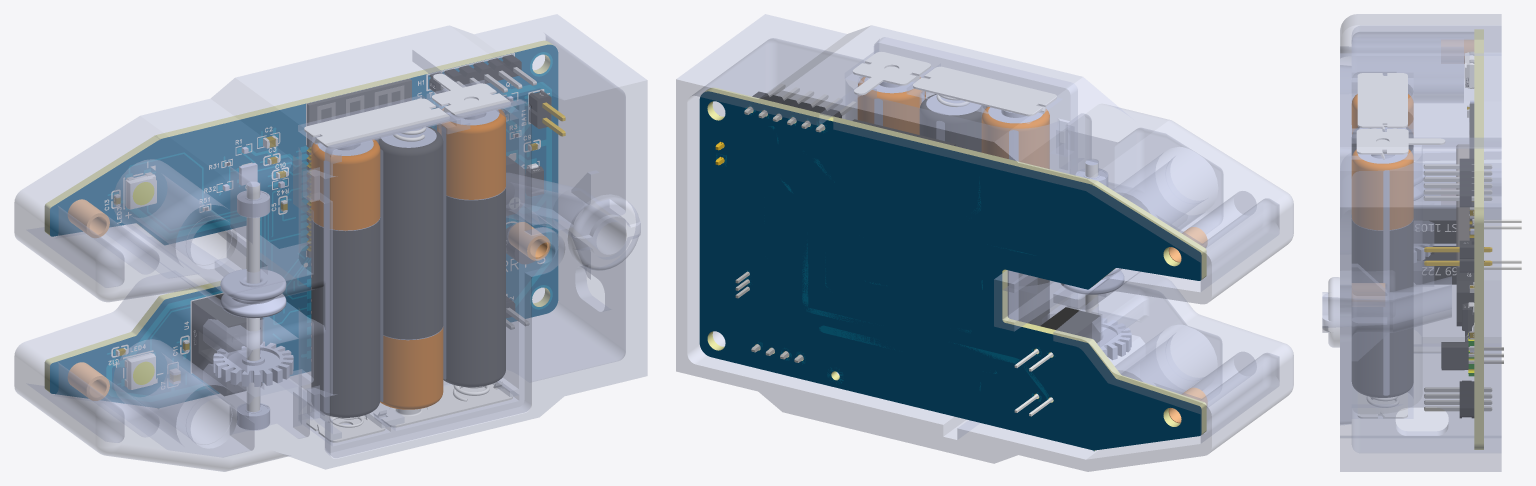
The model's file is Aalarm_assembly.glb.
3 renders of one model, left to right at view 1: azimuth 30°, elevation 25°; view 2: azimuth 150°, elevation 25°; view 3: azimuth 270°, elevation 25°, orthographic. The views are drawn at different scales.
Visible parts, largest first — view 1: Afront case-1, battery lid-1, Board~5Tis.step-1, AAAA battery-3, AAAA battery-2, AAAA battery-1, TopCopper~5Tis.step-1, AAA terminal, AB-1, U4~OPTO-TH_TCST1103~OPTO-TH_TCST1103~5Tis.step-1/OPTO-TH_TCS, U1~WIFI-SMD_ESP32-WROOM-32E~WIFI-SMD_L25.5-W18.0-H3.1-ESP32-, Awheel-1, encoder wheel slotted-1 (+13 smaller); view 2: Board~5Tis.step-1, Afront case-1, AAAA battery-3, battery lid-1, AAA terminal, AB-1, AAAA battery-2, AAAA battery-1, BottomCopper~5Tis.step-1, AAA terminal, single AB-1, U4~OPTO-TH_TCST1103~OPTO-TH_TCST1103~5Tis.step-1/OPTO-TH_TCS, H1~HDR-TH_6P-P2.54-V-M~HDR-TH_6P-P2.54-M-LI-1X6P~5Tis.step-1, encoder wheel slotted-1 (+1 smaller); view 3: Afront case-1, AAAA battery-1, Board~5Tis.step-1, battery lid-1, U4~OPTO-TH_TCST1103~OPTO-TH_TCST1103~5Tis.step-1/OPTO-TH_TCS, AAA terminal, AB-1, H1~HDR-TH_6P-P2.54-V-M~HDR-TH_6P-P2.54-M-LI-1X6P~5Tis.step-1, AAA terminal, single AB-1, H2~HDR-TH_4P-P2.54-V-M~HDR-TH_4P-P2.54-M-LI-1X4P~5Tis.step-1, U1~WIFI-SMD_ESP32-WROOM-32E~WIFI-SMD_L25.5-W18.0-H3.1-ESP32-, U2~TO-92-3_L5.1-W4.1-P1.27-L~TO-92-3_L4.9-W3.7-P1.27-L~5Tis., AAA terminal, AB-2 (+9 smaller).
Boxes of the visible parts, box(x1,y1,x2,y2) form: Afront case-1: box(14, 14, 647, 471); battery lid-1: box(307, 100, 564, 457); Board~5Tis.step-1: box(44, 40, 558, 408); AAAA battery-3: box(311, 139, 380, 417); AAAA battery-2: box(376, 126, 443, 409); AAAA battery-1: box(437, 108, 505, 387); TopCopper~5Tis.step-1: box(106, 52, 552, 401); AAA terminal, AB-1: box(304, 98, 449, 147); U4~OPTO-TH_TCST1103~OPTO-TH_TCST1103~5Tis.step-1/OPTO-TH_TCS: box(175, 287, 262, 395); U1~WIFI-SMD_ESP32-WROOM-32E~WIFI-SMD_L25.5-W18.0-H3.1-ESP32-: box(306, 78, 411, 257); Awheel-1: box(220, 269, 286, 318); encoder wheel slotted-1: box(213, 342, 293, 386); Board~5Tis.step-1: box(699, 87, 1206, 451); Afront case-1: box(676, 14, 1293, 471); AAAA battery-3: box(981, 107, 1049, 325); battery lid-1: box(874, 37, 1077, 312); AAA terminal, AB-1: box(913, 66, 1056, 116); AAAA battery-2: box(920, 94, 987, 151); AAAA battery-1: box(858, 77, 925, 134); BottomCopper~5Tis.step-1: box(716, 104, 1055, 405); AAA terminal, single AB-1: box(852, 52, 930, 95); U4~OPTO-TH_TCST1103~OPTO-TH_TCST1103~5Tis.step-1/OPTO-TH_TCS: box(1014, 307, 1100, 416); H1~HDR-TH_6P-P2.54-V-M~HDR-TH_6P-P2.54-M-LI-1X6P~5Tis.step-1: box(744, 83, 857, 132); encoder wheel slotted-1: box(1097, 318, 1131, 359); Afront case-1: box(1322, 14, 1501, 471); AAAA battery-1: box(1351, 149, 1413, 397); Board~5Tis.step-1: box(1474, 29, 1483, 449); battery lid-1: box(1340, 66, 1353, 424); U4~OPTO-TH_TCST1103~OPTO-TH_TCST1103~5Tis.step-1/OPTO-TH_TCS: box(1414, 206, 1521, 284); AAA terminal, AB-1: box(1357, 73, 1407, 131); H1~HDR-TH_6P-P2.54-V-M~HDR-TH_6P-P2.54-M-LI-1X6P~5Tis.step-1: box(1423, 158, 1492, 207); AAA terminal, single AB-1: box(1356, 129, 1445, 159); H2~HDR-TH_4P-P2.54-V-M~HDR-TH_4P-P2.54-M-LI-1X4P~5Tis.step-1: box(1424, 380, 1492, 418); U1~WIFI-SMD_ESP32-WROOM-32E~WIFI-SMD_L25.5-W18.0-H3.1-ESP32-: box(1456, 103, 1474, 273); U2~TO-92-3_L5.1-W4.1-P1.27-L~TO-92-3_L4.9-W3.7-P1.27-L~5Tis.: box(1441, 342, 1503, 370); AAA terminal, AB-2: box(1358, 392, 1407, 418).
Bounding box in the file's own units: 0.095 × 0.0545 × 0.0338.
